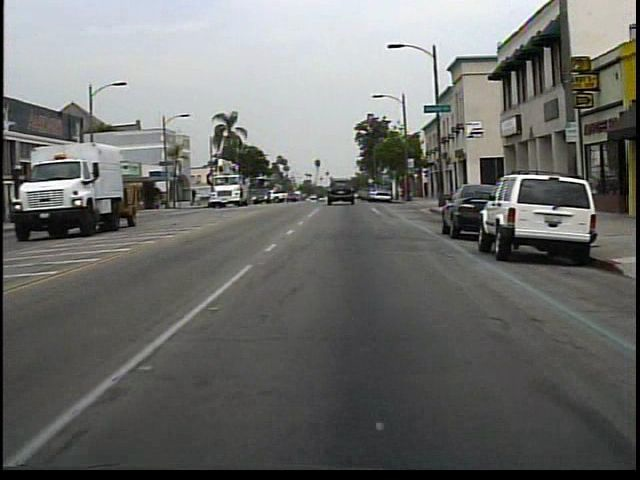person: (10, 194, 20, 224)
